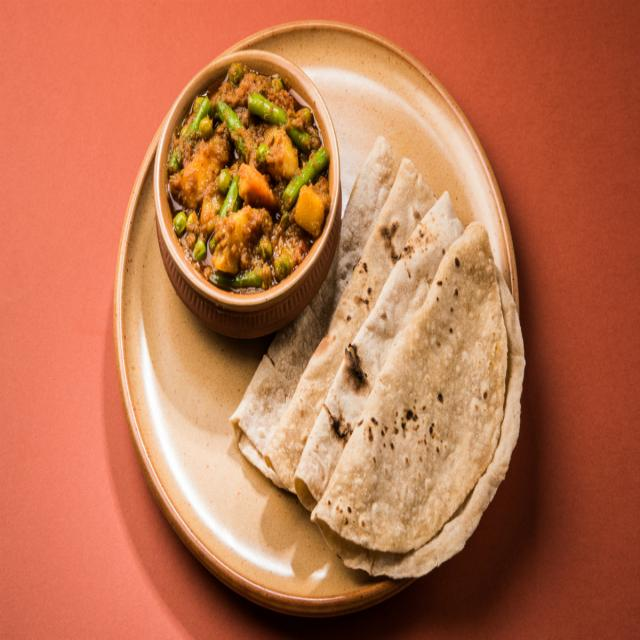roti: (312, 222, 525, 578), (239, 137, 398, 488), (267, 159, 435, 490), (291, 192, 462, 507)
